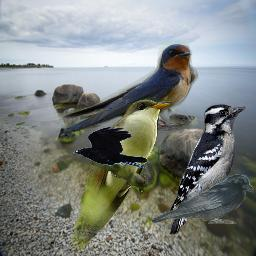Crow: (150, 174, 254, 224), (73, 127, 148, 168)
Cuckoo: (70, 98, 174, 250)
Swallow: (39, 42, 199, 134)
Woodpecker: (168, 102, 247, 236)
